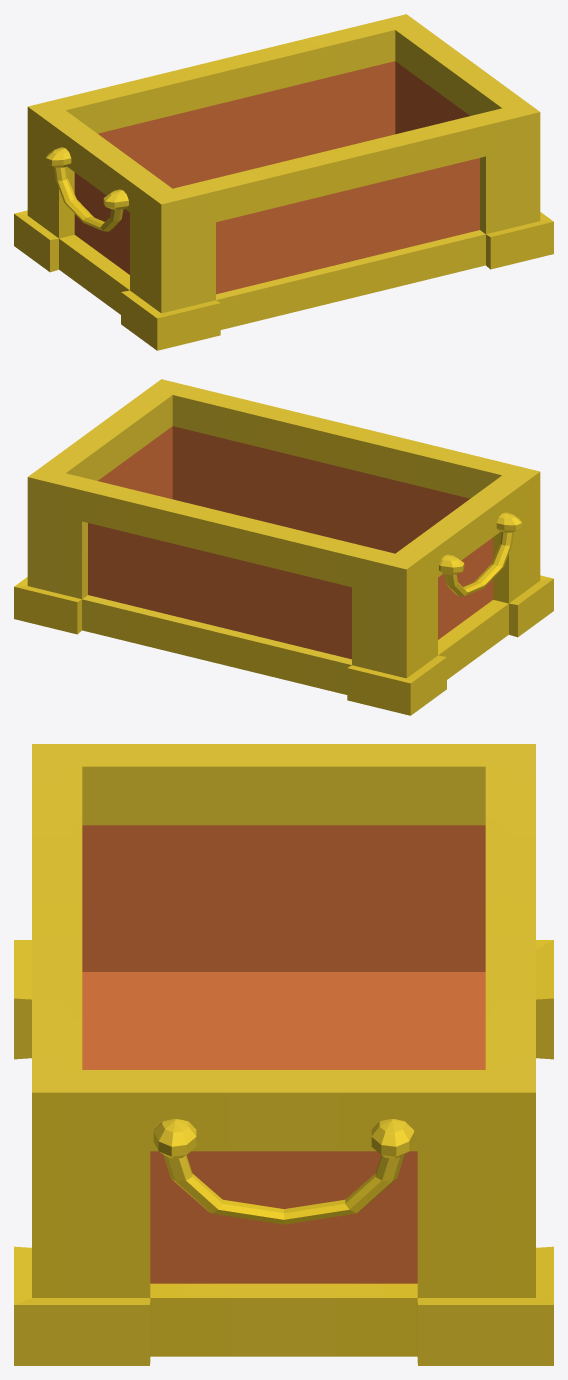
File: Safe Chest 4 bottom.fbx
3 renders of one model, top to bottom at view 1: azimuth 30°, elevation 25°; view 2: azimuth 150°, elevation 25°; view 3: azimuth 270°, elevation 25°, orthographic. The views are drawn at different scales.
Visible parts, largest first — view 1: Safe Chest 4 bottom; view 2: Safe Chest 4 bottom; view 3: Safe Chest 4 bottom.
Part boxes in pixels (x1=…): Safe Chest 4 bottom: x1=14, y1=14, x2=553, y2=350; Safe Chest 4 bottom: x1=14, y1=379, x2=553, y2=715; Safe Chest 4 bottom: x1=14, y1=744, x2=553, y2=1365.
Bounding box in the file's own units: 107 × 34.57 × 63.8.
